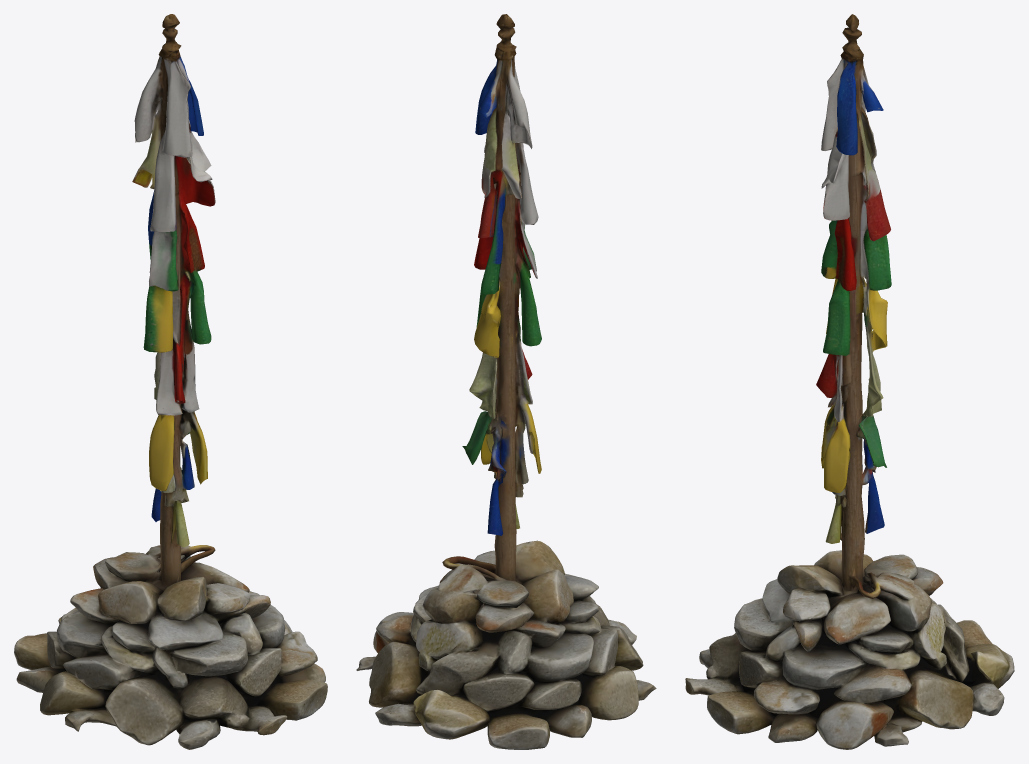
The model's file is prayer_pole.glb.
3 renders of one model, left to right at view 1: azimuth 30°, elevation 25°; view 2: azimuth 150°, elevation 25°; view 3: azimuth 270°, elevation 25°, orthographic.
Visible parts, largest first — view 1: tripo_node_c9ed6dc7-4662-4f18-a805-8886ce5f62bd; view 2: tripo_node_c9ed6dc7-4662-4f18-a805-8886ce5f62bd; view 3: tripo_node_c9ed6dc7-4662-4f18-a805-8886ce5f62bd.
Part boxes in pixels (x1,y1,x2,y2): tripo_node_c9ed6dc7-4662-4f18-a805-8886ce5f62bd: [14, 14, 327, 749]; tripo_node_c9ed6dc7-4662-4f18-a805-8886ce5f62bd: [356, 14, 656, 749]; tripo_node_c9ed6dc7-4662-4f18-a805-8886ce5f62bd: [685, 14, 1014, 749].
Size of the model in its own units: 0.4841 by 1.2 by 0.529.
Materials: 1 (1 with a texture image).
